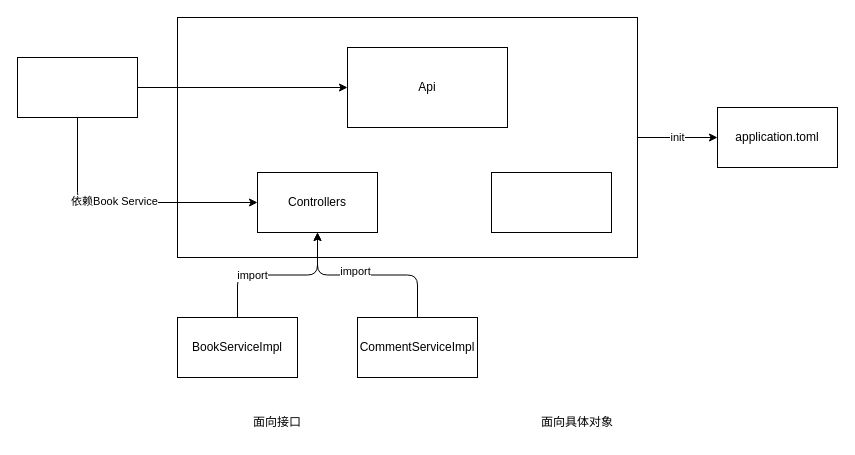
The diagram is 855 pixels wide and 455 high, and some of its shapes have lost their labels. Each missing label, with the centre of its shape:
BookApiHandler: the point at 77,87
Config: the point at 551,202
